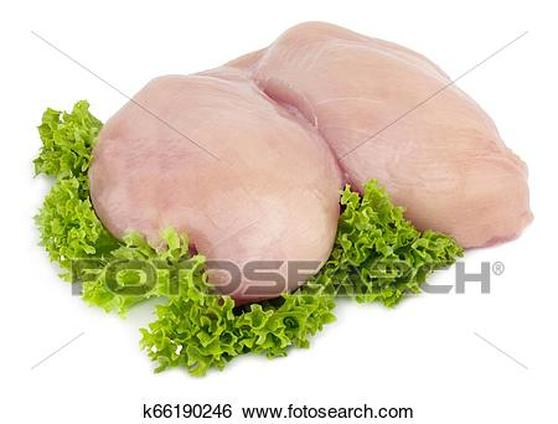chicken_fillet: (230, 18, 534, 248), (93, 72, 338, 291)
